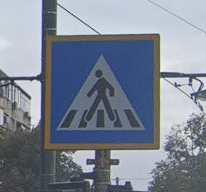trecere_pietoni: (43, 32, 162, 151)
